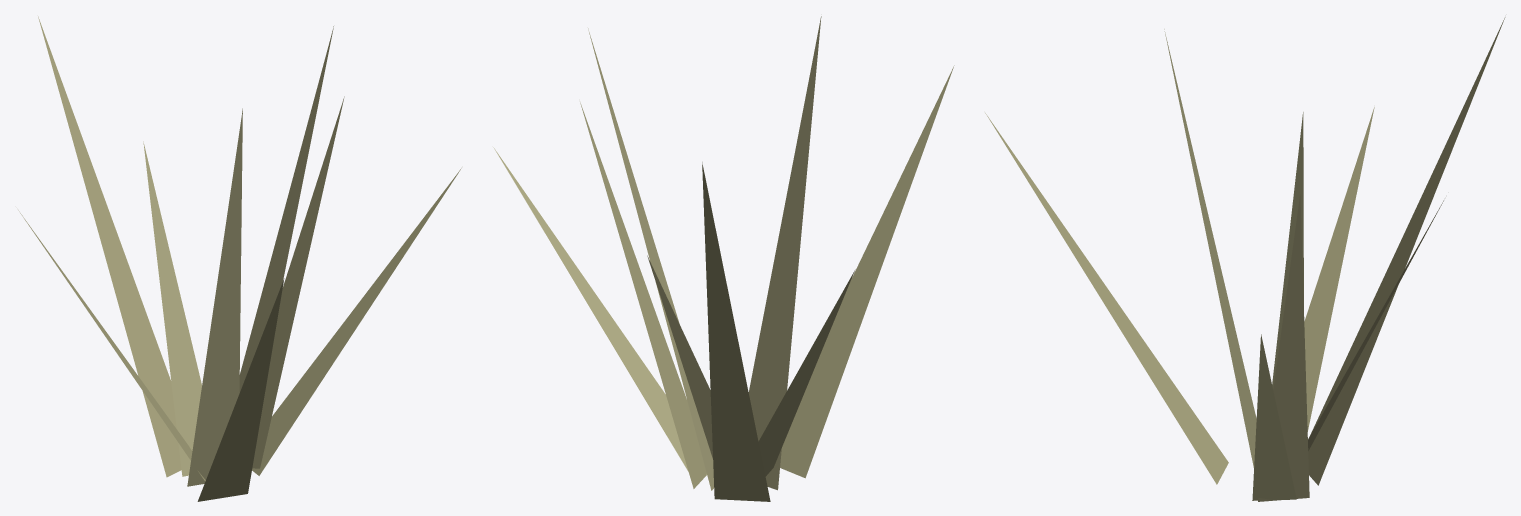
File: grass_tuft_a_LOD2.fbx
The picture shows the model from 3 angles, left to right: view 1: azimuth 30°, elevation 25°; view 2: azimuth 150°, elevation 25°; view 3: azimuth 270°, elevation 25°; orthographic projection. The views are drawn at different scales.
Parts seen in each view (by area): view 1: grass_tuft_a_LOD2; view 2: grass_tuft_a_LOD2; view 3: grass_tuft_a_LOD2.
Part boxes in pixels (x1=…): grass_tuft_a_LOD2: x1=18, y1=16, x2=461, y2=501; grass_tuft_a_LOD2: x1=493, y1=16, x2=954, y2=501; grass_tuft_a_LOD2: x1=985, y1=17, x2=1505, y2=501.
Bounding box in the file's own units: 91.75 × 91.28 × 97.4.
